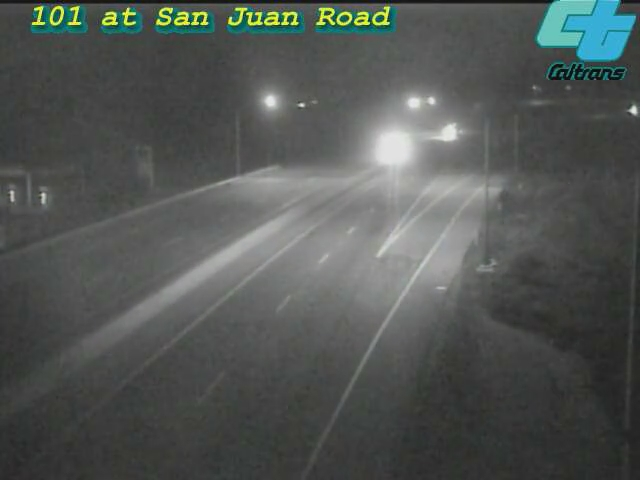vehicle: (371, 122, 421, 172), (423, 107, 473, 157), (609, 86, 640, 136)
